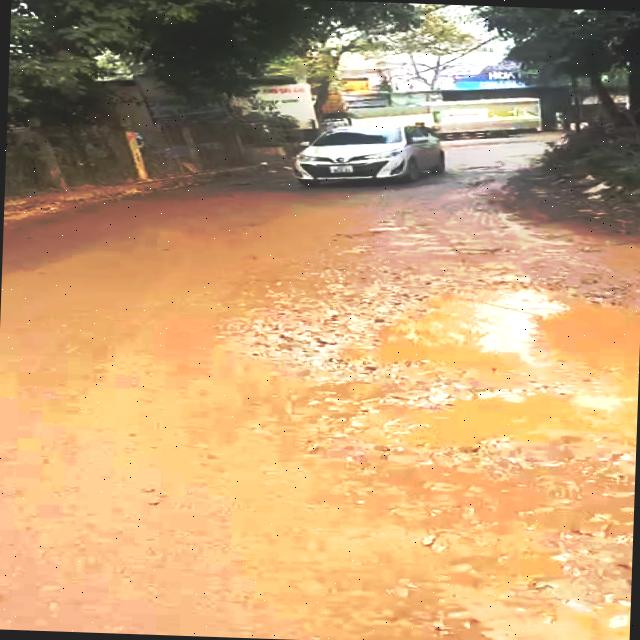pothole: (253, 263, 640, 500), (390, 522, 633, 640)
